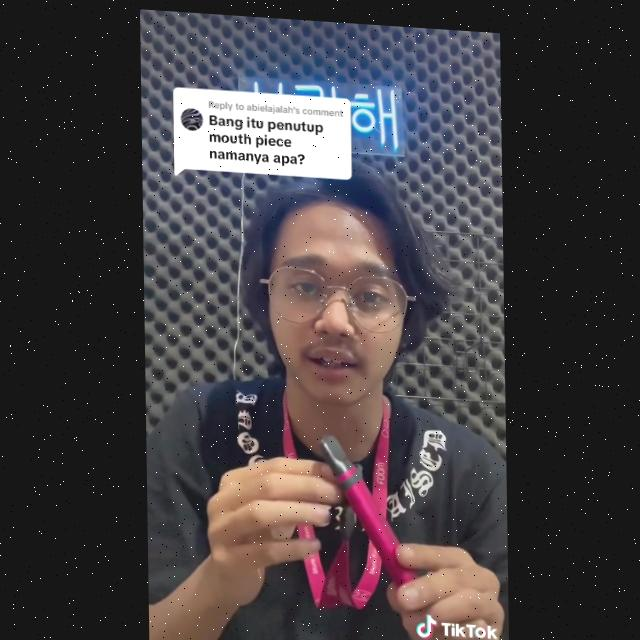vape: (317, 426, 420, 582)
